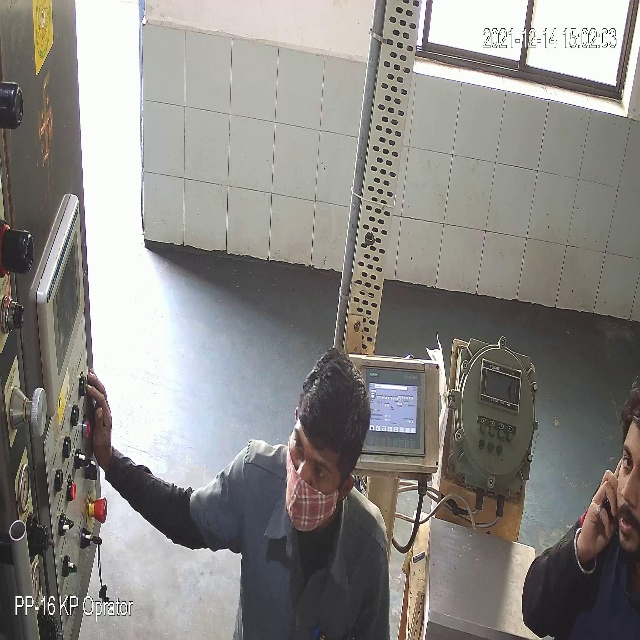Sin_gafas: (288, 432, 332, 488)
